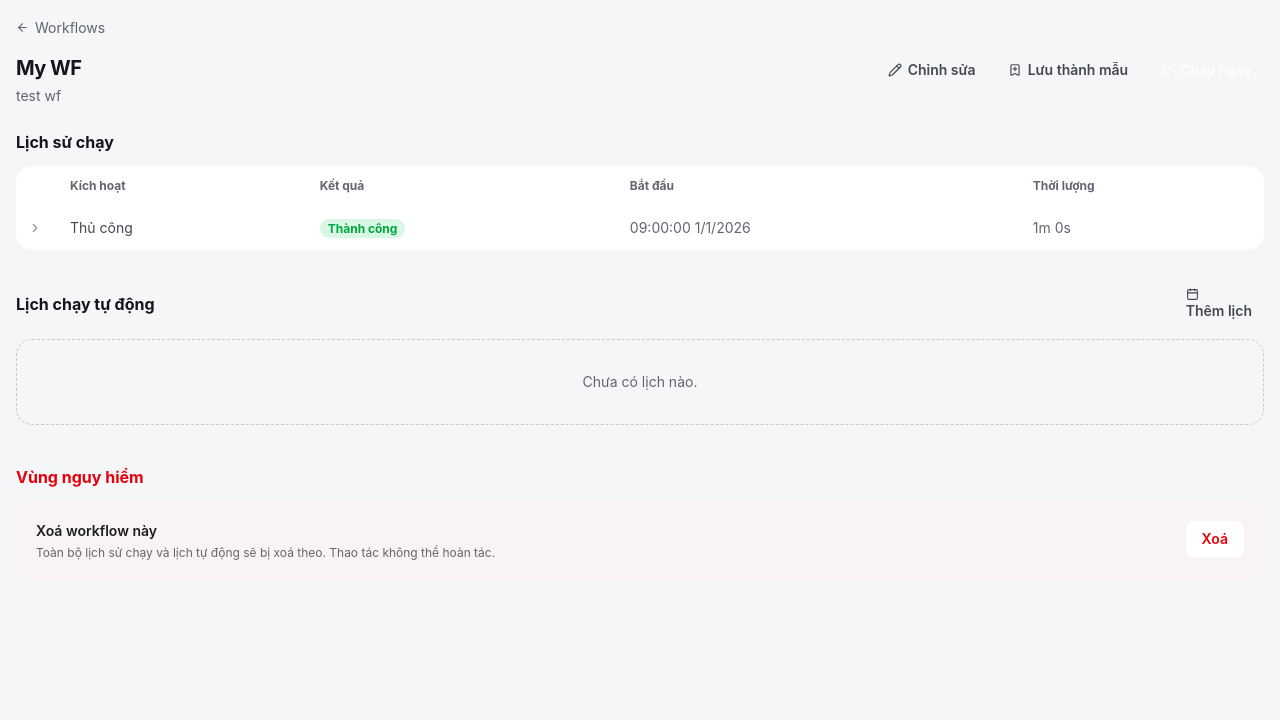
Scenario: WorkflowDetailClient — expand run → steps › clicking step row expands output
Check: the text "Thủ công" is shown, box x1=54 y1=206 x2=304 y2=250
Click the text "Thủ công" at (640, 228), box x1=16 y1=206 x2=1264 y2=250
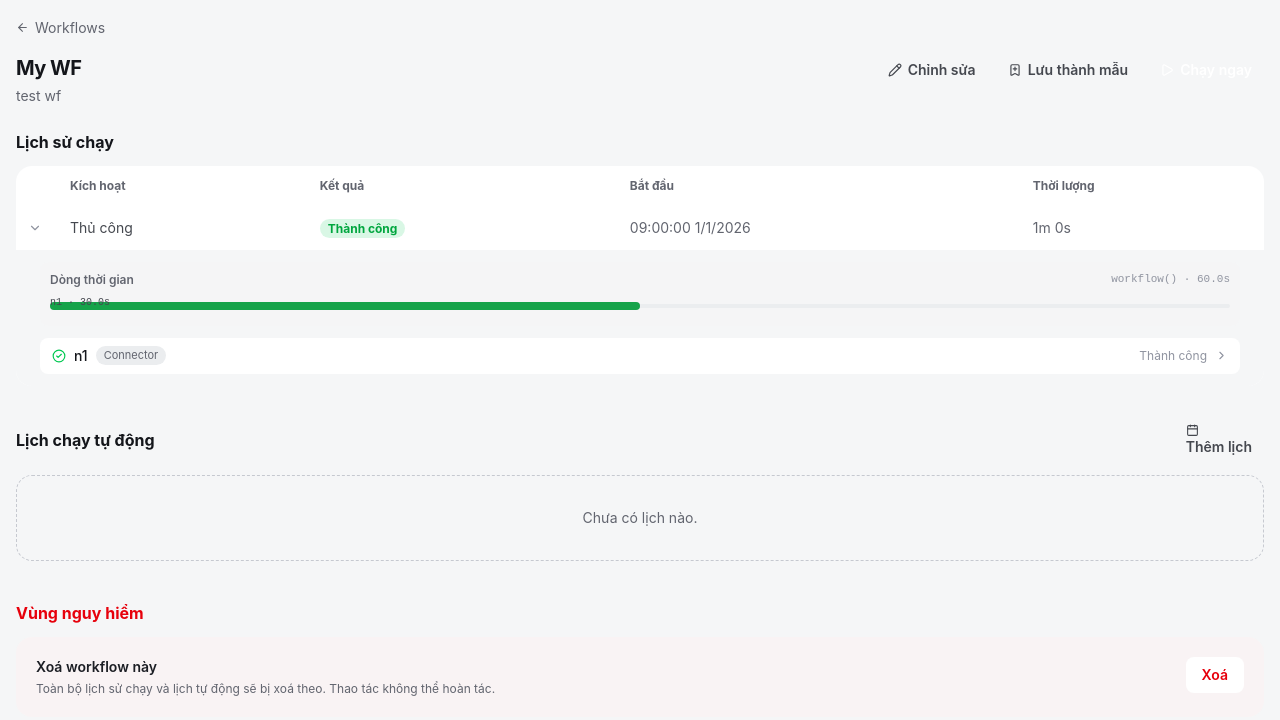
Check: the text "n1" is shown, box x1=74 y1=346 x2=88 y2=366
click step row button to expand output
Click the button "n1 Connector Thành công" at (131, 355), box x1=40 y1=338 x2=1240 y2=374
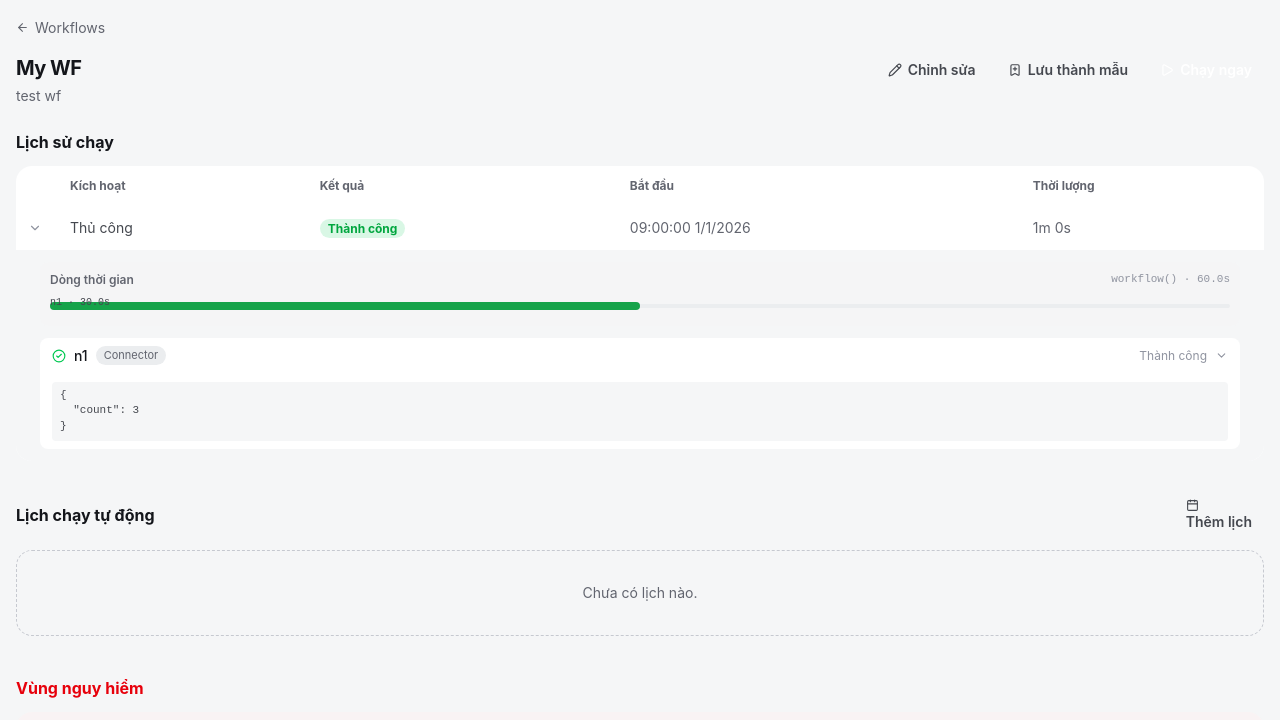
Check: the text "{ \"count\": 3 }" is shown, box x1=52 y1=382 x2=1228 y2=441
